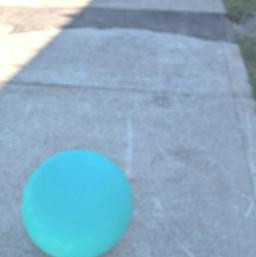algae: (22, 146, 133, 257)
